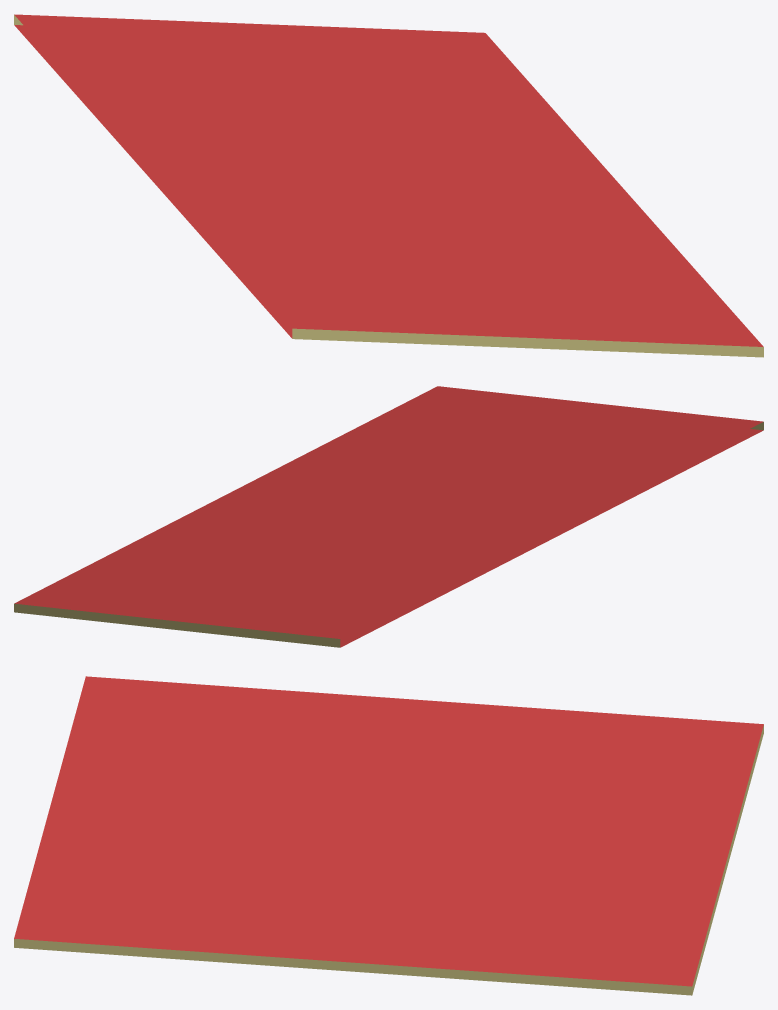
The picture shows the model from 3 angles, top to bottom: view 1: azimuth 30°, elevation 25°; view 2: azimuth 150°, elevation 25°; view 3: azimuth 270°, elevation 25°; orthographic projection. The views are drawn at different scales.
Bounding box in the file's own units: 5.45 × 7.52 × 0.992.
